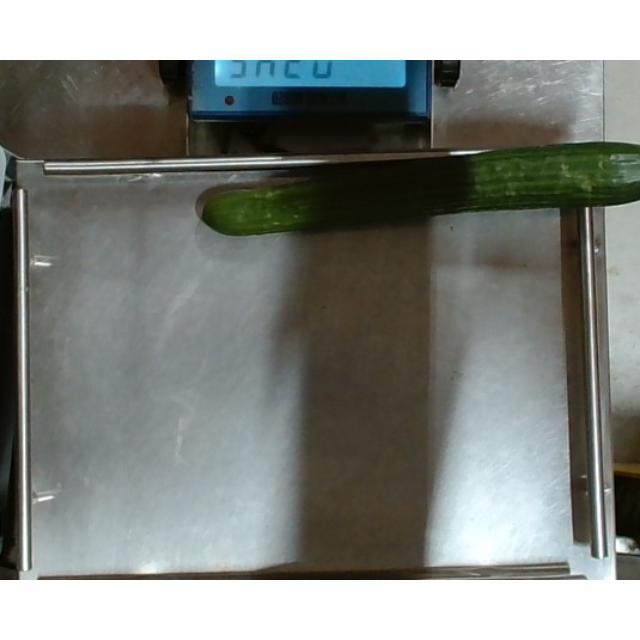cucumber: (202, 138, 640, 238)
